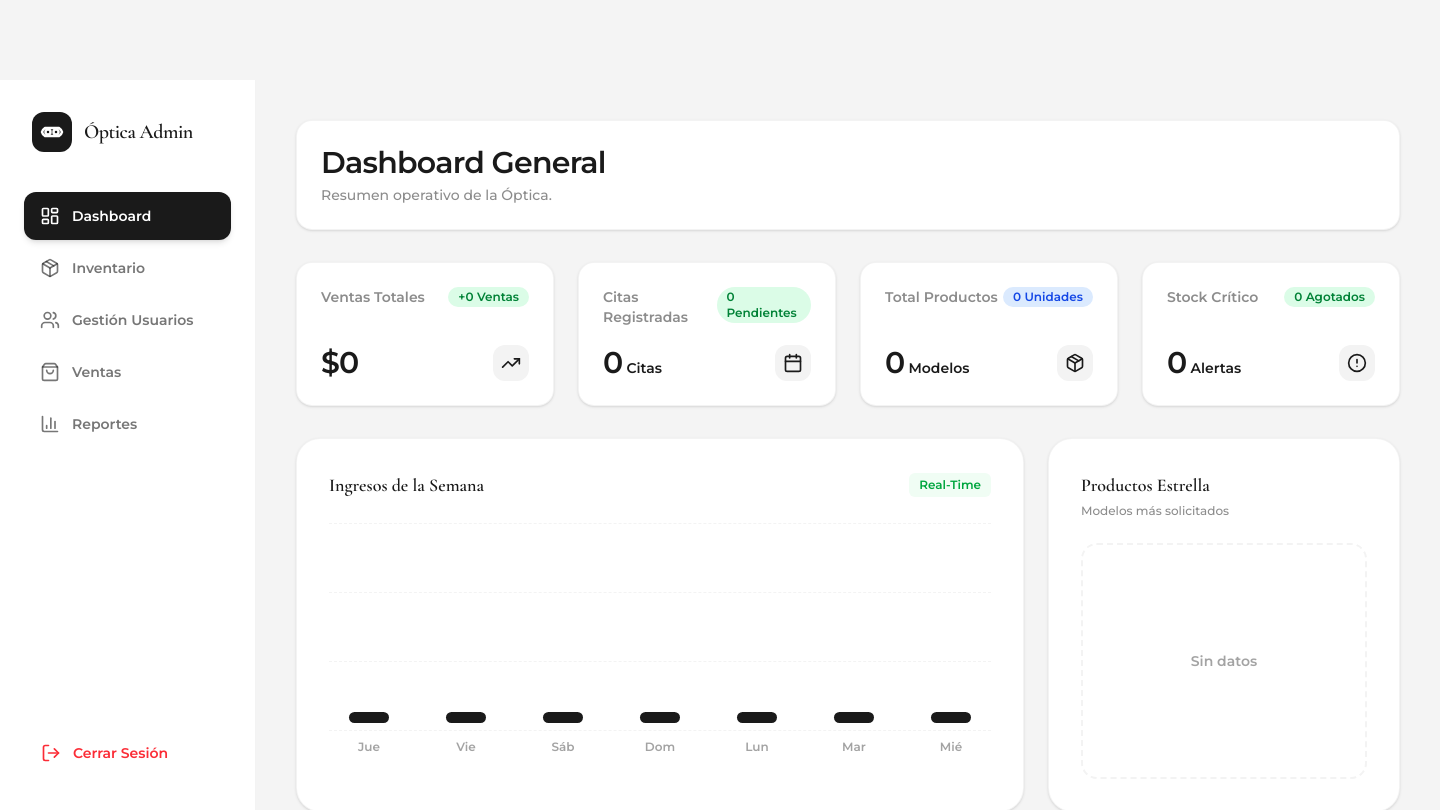
AdminPanel Component › debe navegar a la vista de Inventario y mostrar la tabla del catálogo al hacer clic en "Inventario"
Note: Hacer clic en el botón de navegación "Inventario"
Click the button "Inventario". click: (128, 268)
box: [24,244,231,292]
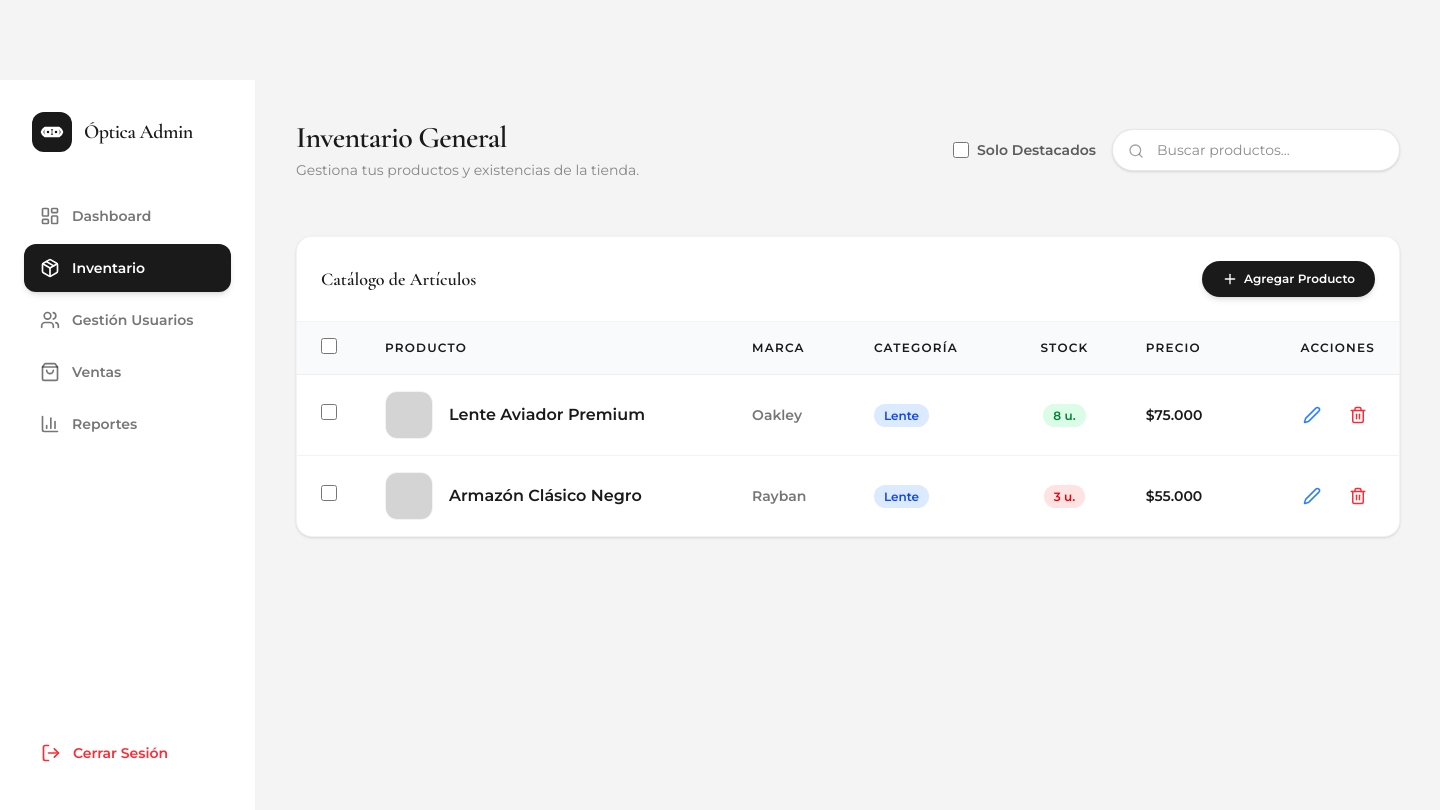
Now the text "Lente Aviador Premium" is shown, box [449,403,645,427]
Now the text "Armazón Clásico Negro" is shown, box [449,484,642,508]
Now the heading "Catálogo de Artículos" is shown, box [321,265,476,293]
